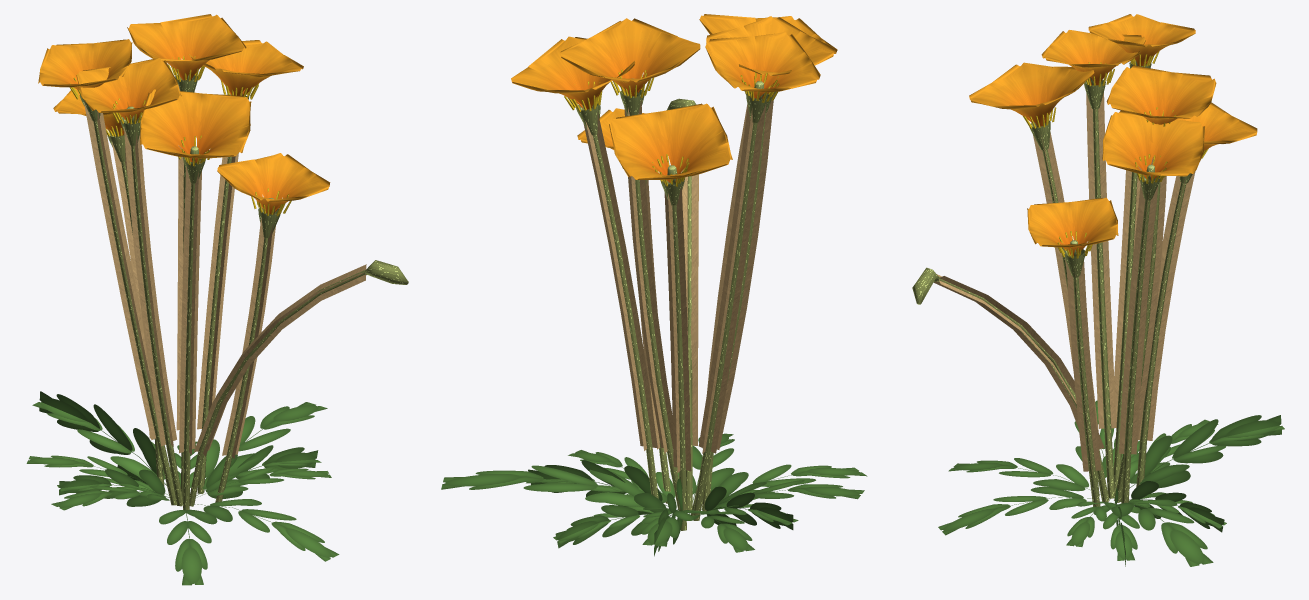
File: arctic_poppy_v03.fbx
The picture shows the model from 3 angles, left to right: view 1: azimuth 30°, elevation 25°; view 2: azimuth 150°, elevation 25°; view 3: azimuth 270°, elevation 25°; orthographic projection. The views are drawn at different scales.
Parts seen in each view (by area): view 1: arctic_poppy_v03; view 2: arctic_poppy_v03; view 3: arctic_poppy_v03.
Boxes of the visible parts, x1,y1,x2,y2 form: arctic_poppy_v03: [26, 14, 408, 585]; arctic_poppy_v03: [441, 14, 867, 556]; arctic_poppy_v03: [912, 14, 1284, 566].
Size of the model in its own units: 20.5 by 20.56 by 27.82.
5 materials, 5 textured.
